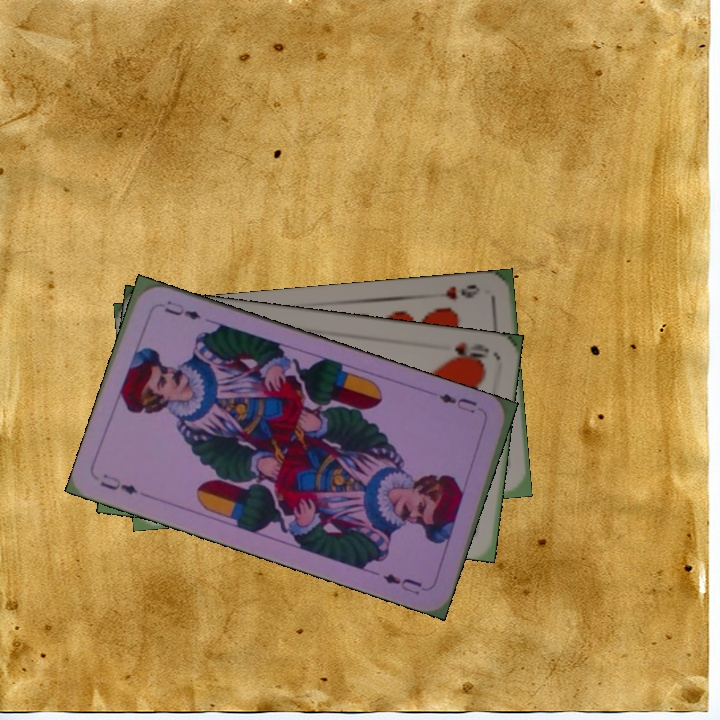EU: (96, 469, 140, 497), (435, 389, 479, 416)
H9: (442, 281, 483, 303)
HO: (444, 338, 491, 365)
